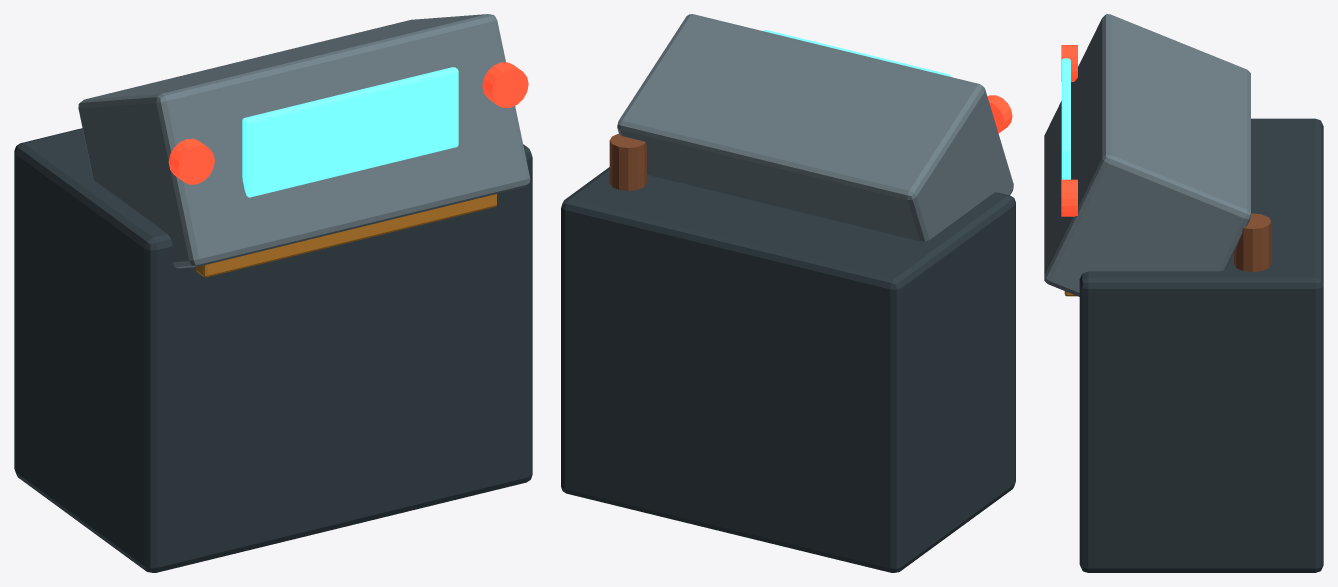
File: industrial_control_console.glb
The picture shows the model from 3 angles, left to right: view 1: azimuth 30°, elevation 25°; view 2: azimuth 150°, elevation 25°; view 3: azimuth 270°, elevation 25°; orthographic projection. The views are drawn at different scales.
Parts seen in each view (by area): view 1: Console cabinet, Console face, Console display, Console lower lip, Alarm indicator, Alarm indicator.001; view 2: Console cabinet, Console face, Console conduit, Alarm indicator; view 3: Console cabinet, Console face, Console conduit, Console display, Alarm indicator.001, Alarm indicator.
Boxes of the visible parts, bbox=[...] form: Console cabinet: bbox=[14, 128, 532, 572]; Console face: bbox=[78, 14, 530, 268]; Console display: bbox=[242, 67, 458, 197]; Console lower lip: bbox=[196, 194, 496, 277]; Alarm indicator: bbox=[168, 138, 214, 184]; Alarm indicator.001: bbox=[482, 62, 528, 107]; Console cabinet: bbox=[561, 167, 1015, 572]; Console face: bbox=[617, 14, 1013, 241]; Console conduit: bbox=[609, 133, 646, 190]; Alarm indicator: bbox=[987, 95, 1012, 133]; Console cabinet: bbox=[1079, 118, 1323, 572]; Console face: bbox=[1044, 14, 1250, 296]; Console conduit: bbox=[1234, 213, 1271, 271]; Console display: bbox=[1061, 58, 1070, 179]; Alarm indicator.001: bbox=[1061, 179, 1077, 216]; Alarm indicator: bbox=[1061, 45, 1077, 81].
Bounding box in the file's own units: 1.16 × 1.33 × 0.8251.
